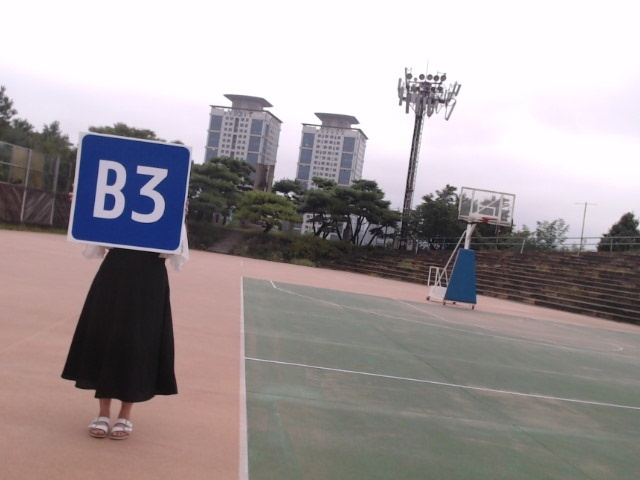delivery_b3: (71, 131, 191, 254)
